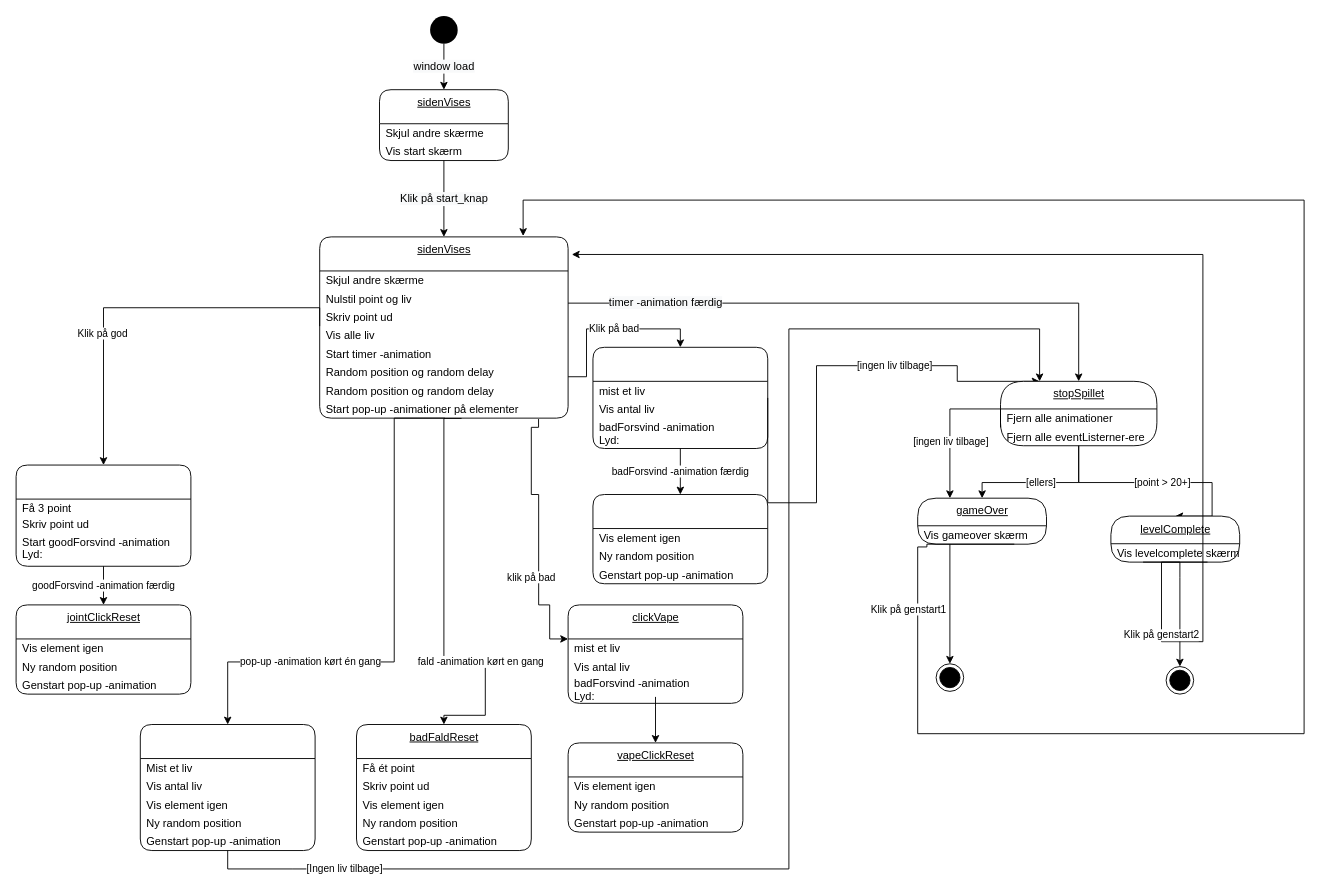
The diagram is 1328 pixels wide and 892 high, and some of its shapes have lost their labels. Each missing label, with the box of its shape:
cigaretClickReset: (592, 494, 768, 584)
clickCigaret: (592, 346, 768, 448)
clickJoint: (15, 464, 191, 566)
jointFaldReset: (139, 724, 315, 851)
